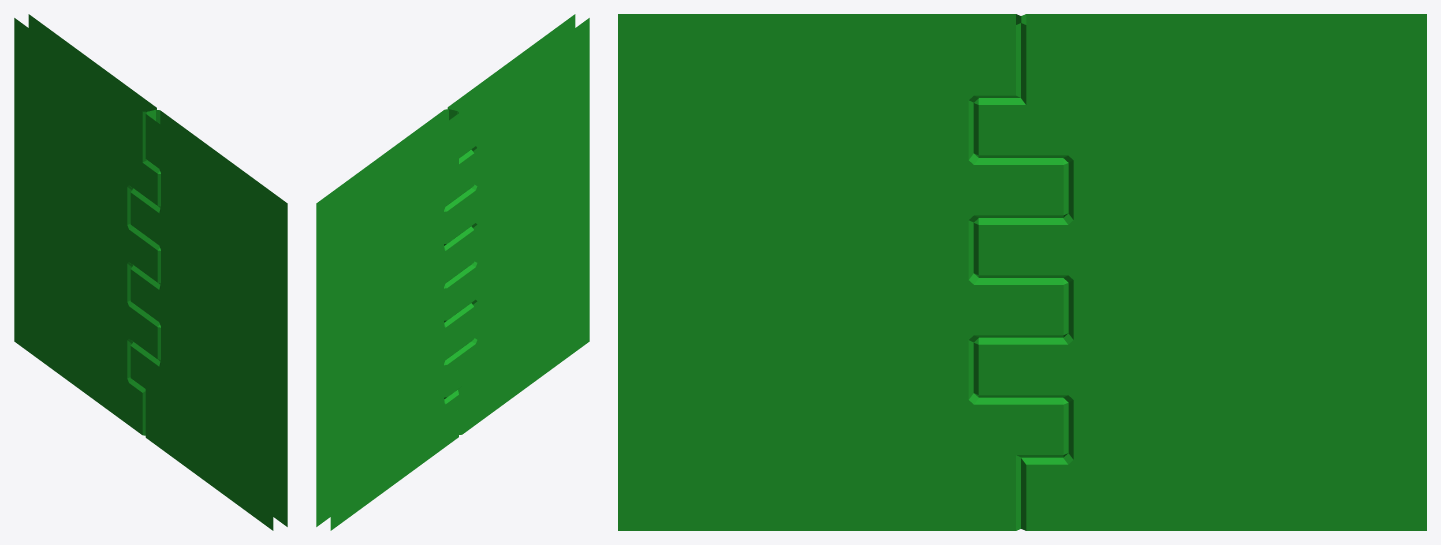
The model's file is BackDoor.FBX.
The picture shows the model from 3 angles, left to right: view 1: azimuth 30°, elevation 25°; view 2: azimuth 150°, elevation 25°; view 3: azimuth 270°, elevation 25°; orthographic projection. The views are drawn at different scales.
Visible parts, largest first — view 1: Backdoor2, Back Door; view 2: Back Door, Backdoor2; view 3: Back Door, Backdoor2.
Boxes of the visible parts, x1=… form: Backdoor2: x1=130, y1=109, x2=287, y2=530; Back Door: x1=14, y1=14, x2=160, y2=435; Back Door: x1=316, y1=109, x2=474, y2=530; Backdoor2: x1=444, y1=14, x2=589, y2=434; Back Door: x1=973, y1=14, x2=1426, y2=530; Backdoor2: x1=618, y1=14, x2=1068, y2=530.
Bounding box in the file's own units: 3.94 × 83.77 × 121.
